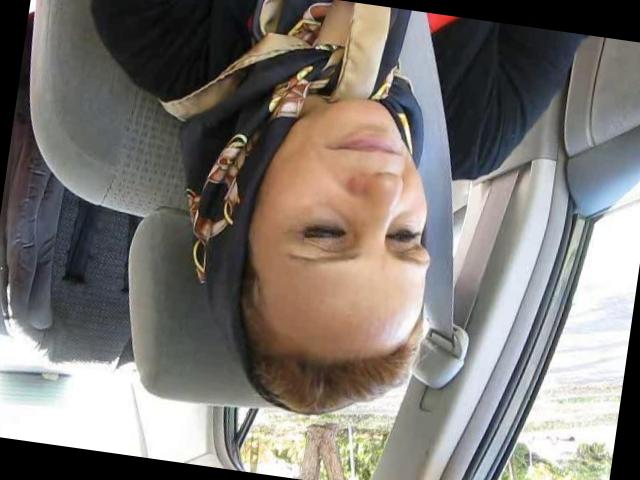eye_closed: (294, 215, 353, 252), (386, 221, 424, 252)
face: (256, 86, 452, 309)
